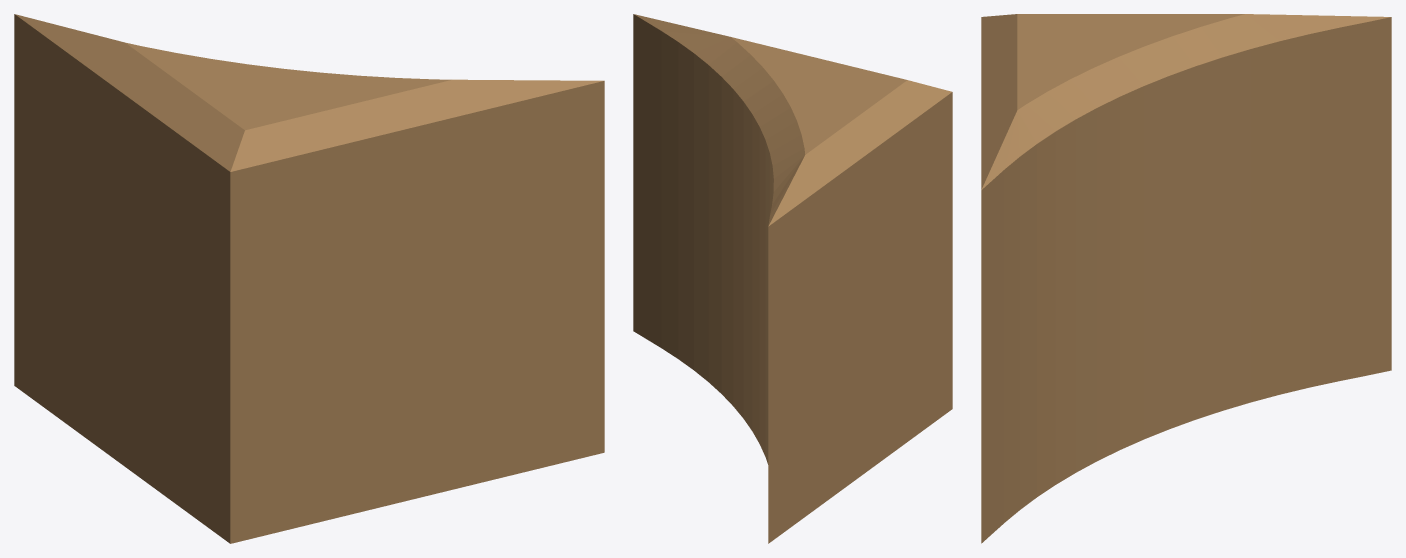
Rendered from wallCornerRoundInverted.fbx.
The picture shows the model from 3 angles, left to right: view 1: azimuth 30°, elevation 25°; view 2: azimuth 150°, elevation 25°; view 3: azimuth 270°, elevation 25°; orthographic projection. The views are drawn at different scales.
Visible parts, largest first — view 1: wallCornerRoundInverted; view 2: wallCornerRoundInverted; view 3: wallCornerRoundInverted.
Boxes of the visible parts, x1,y1,x2,y2 form: wallCornerRoundInverted: (14, 14, 604, 543); wallCornerRoundInverted: (633, 14, 952, 543); wallCornerRoundInverted: (981, 14, 1391, 543).
Bounding box in the file's own units: 100 × 100 × 100.
